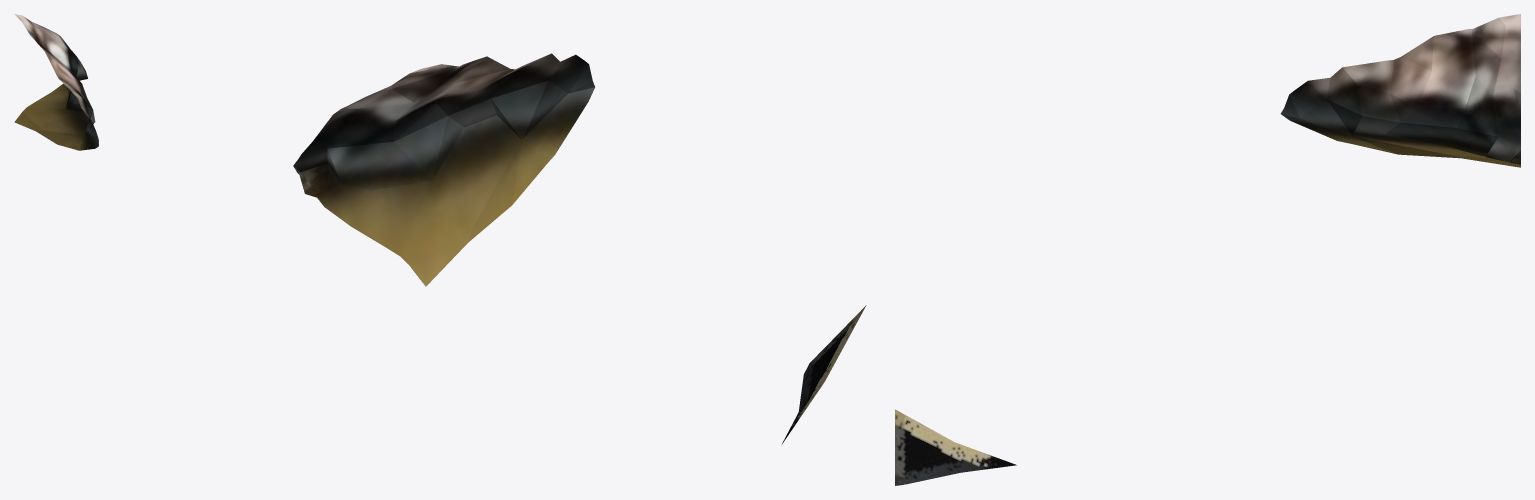
3 renders of one model, left to right at view 1: azimuth 30°, elevation 25°; view 2: azimuth 150°, elevation 25°; view 3: azimuth 270°, elevation 25°, orthographic. The views are drawn at different scales.
Size of the model in its own units: 0.2976 by 1.33 by 1.67.
Materials: 1 (1 with a texture image).
